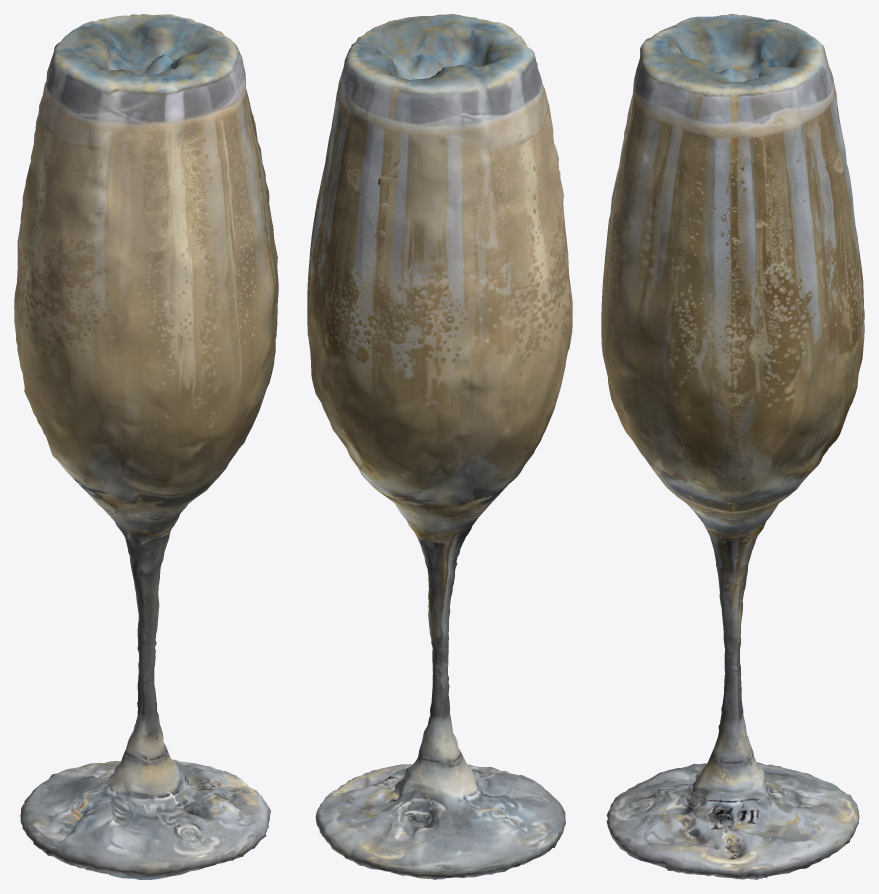
Rendered from champagne_glass.glb.
3 views of the same model, side by side, from view 1: azimuth 30°, elevation 25°; view 2: azimuth 150°, elevation 25°; view 3: azimuth 270°, elevation 25° (orthographic).
Size of the model in its own units: 0.3585 by 1.2 by 0.3578.
Materials: 1 (1 with a texture image).
